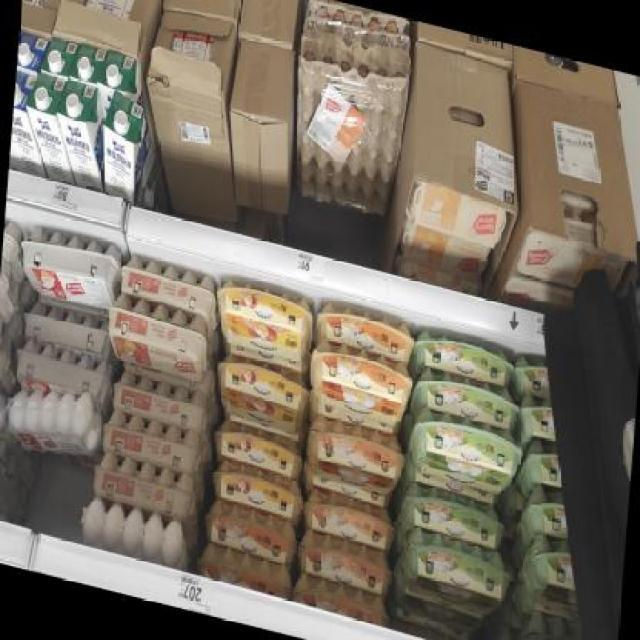Egg: (406, 405, 524, 499), (399, 527, 513, 621), (105, 292, 212, 386), (18, 221, 124, 315), (308, 337, 416, 429), (213, 272, 316, 364), (304, 412, 406, 500), (213, 353, 310, 435), (398, 480, 506, 552), (91, 449, 195, 522), (414, 365, 520, 432), (100, 406, 202, 474), (297, 527, 394, 596), (314, 297, 415, 363), (118, 251, 219, 317), (112, 368, 211, 434), (203, 499, 300, 566), (302, 486, 398, 552), (414, 327, 515, 388), (211, 458, 307, 520), (212, 418, 306, 480), (292, 573, 394, 630), (196, 544, 294, 602), (518, 532, 582, 616), (397, 591, 481, 635), (519, 482, 571, 541), (517, 609, 601, 640), (516, 389, 558, 446), (523, 439, 567, 491), (512, 353, 552, 405)
